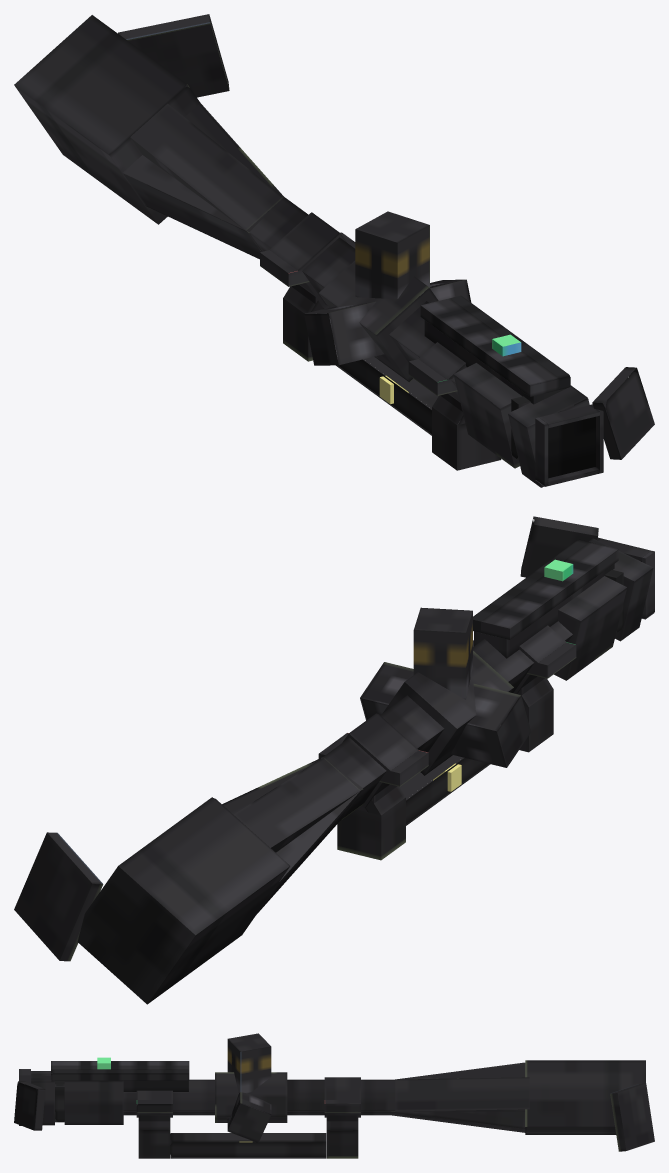
File: hawk.obj
The picture shows the model from 3 angles, top to bottom: view 1: azimuth 30°, elevation 25°; view 2: azimuth 150°, elevation 25°; view 3: azimuth 270°, elevation 25°; orthographic projection. The views are drawn at different scales.
Parts seen in each view (by area): view 1: gun_35, scopepip_1; view 2: gun_35; view 3: gun_35.
Part boxes in pixels (box(x1,y1,x2,y2)): gun_35: box(14, 14, 654, 487); scopepip_1: box(548, 416, 595, 478); gun_35: box(14, 516, 654, 1004); gun_35: box(14, 1033, 654, 1158).
Size of the model in its own units: 0.6984 by 0.5626 by 2.98.
